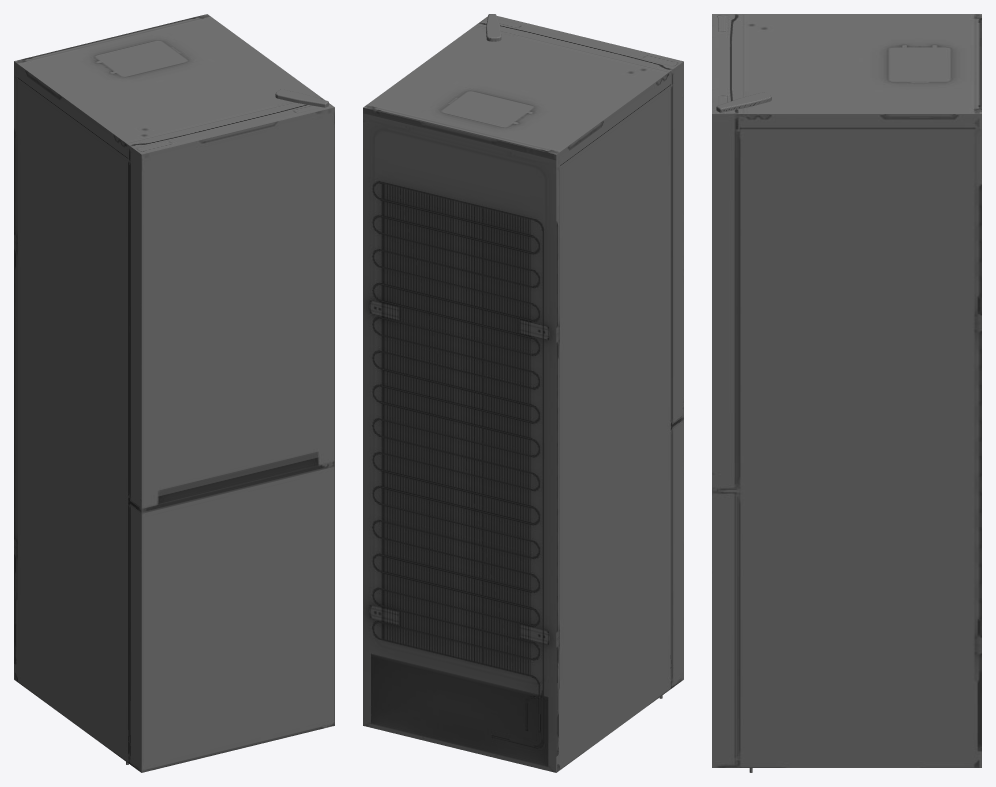
The model's file is uncompressed.glb.
3 views of the same model, side by side, from view 1: azimuth 30°, elevation 25°; view 2: azimuth 150°, elevation 25°; view 3: azimuth 270°, elevation 25° (orthographic). The views are drawn at different scales.
Visible parts, largest first — view 1: 10568068_01; view 2: 10568068_01; view 3: 10568068_01.
Part boxes in pixels (<box>): 10568068_01: <box>14,14,334,772</box>; 10568068_01: <box>363,14,683,772</box>; 10568068_01: <box>712,14,981,772</box>.
Size of the model in its own units: 0.595 by 1.85 by 0.6797.
1 material, 1 textured.
